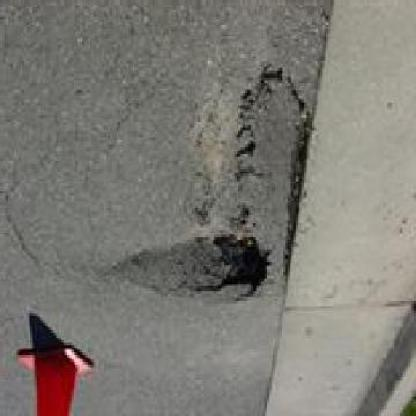pothole: (233, 65, 318, 300), (113, 234, 274, 300)
